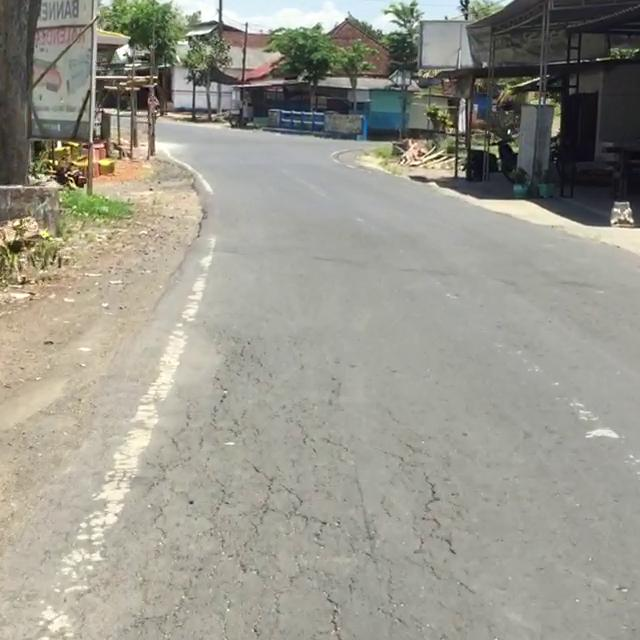retak_kulit_buaya: (147, 355, 305, 640), (277, 522, 390, 640), (394, 437, 476, 574)
